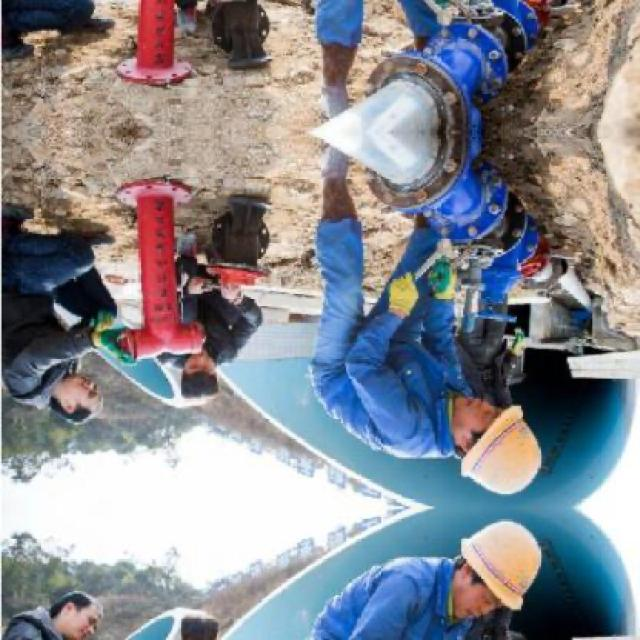con casco: (389, 376, 530, 516)
sin casco: (156, 348, 258, 414), (29, 367, 102, 432)
